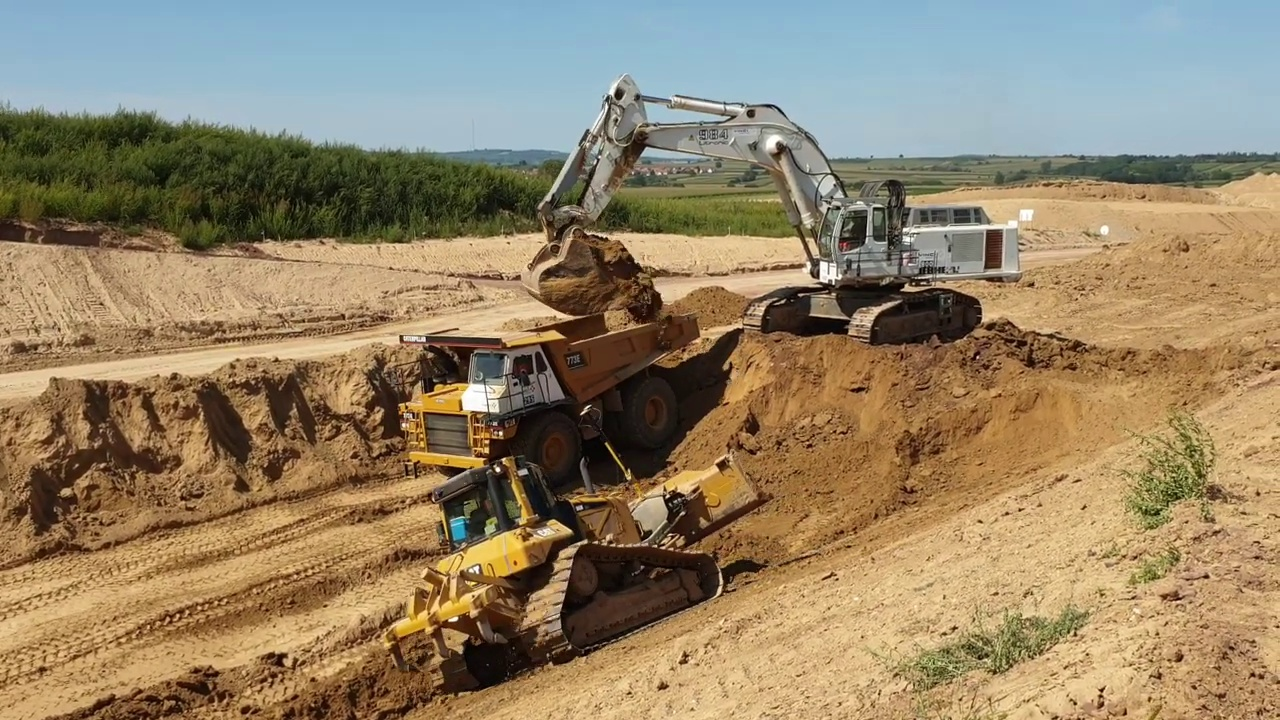bulldozer: (378, 400, 777, 696)
excavator: (518, 69, 1030, 355)
truck: (383, 310, 709, 498)
